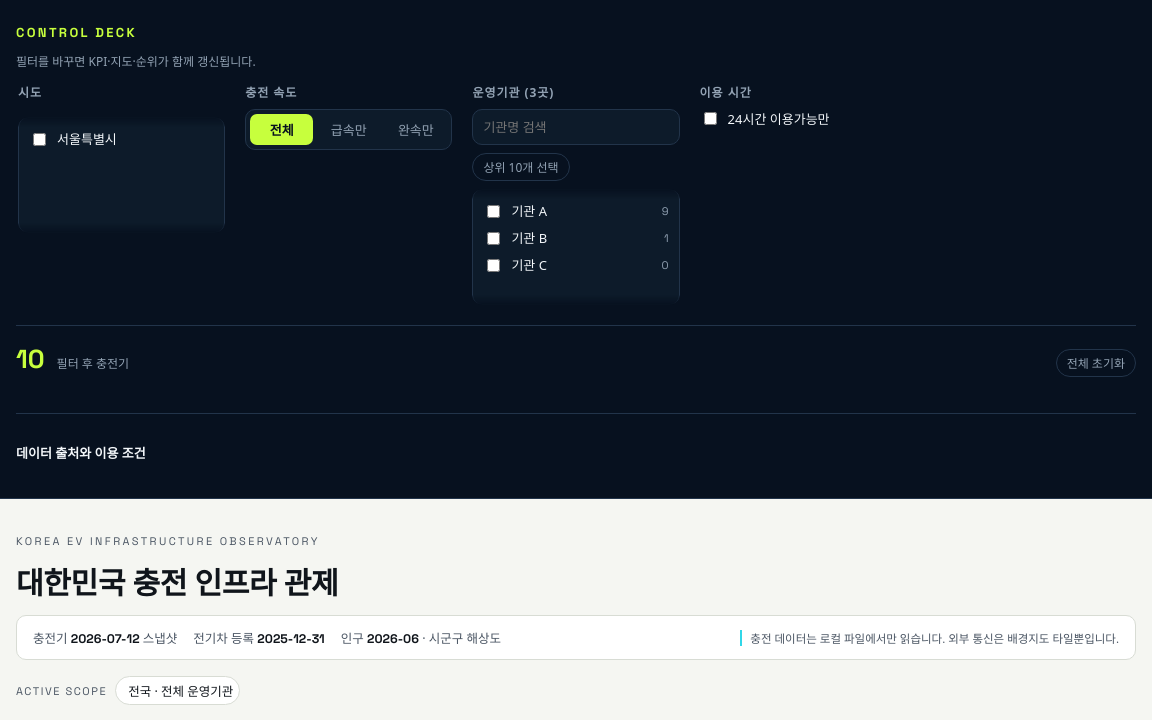
Test: App 빈 결과 상태 › 단일 차원 완화로 복구되지 않는 조합 원인을 구분한다
Click the checkbox labelled "기관 C 0" at (494, 266), box [487, 259, 500, 272]
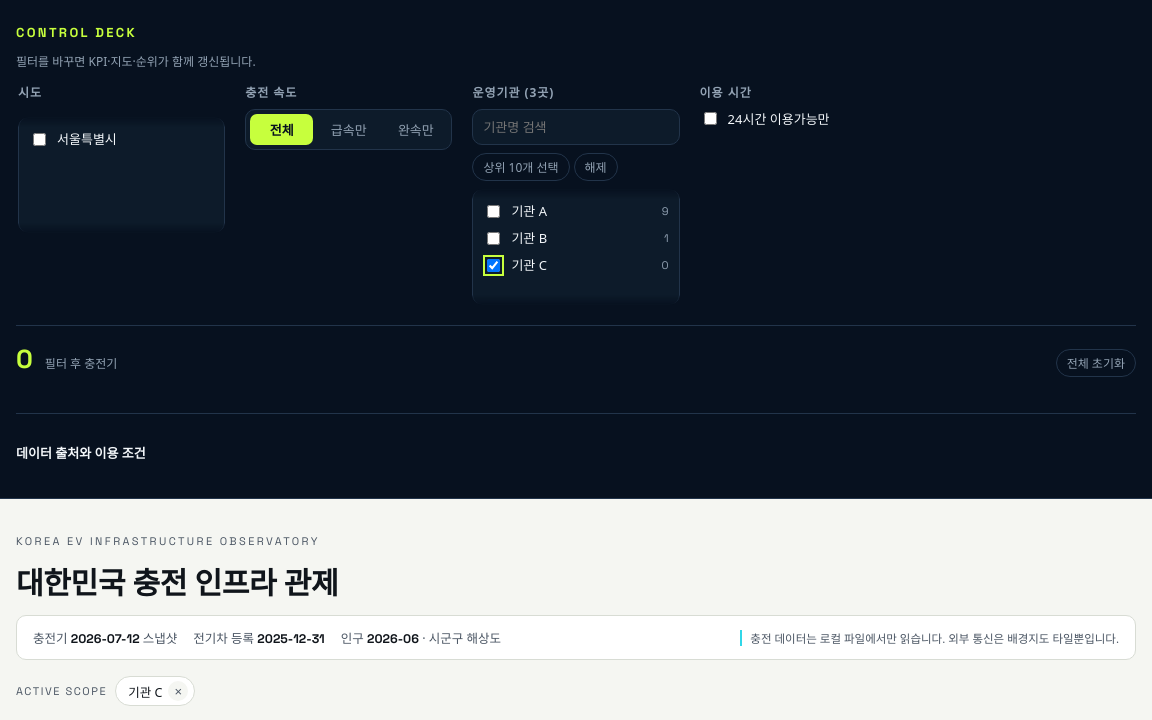
Click the radio button labelled "완속만" at (416, 130), box [398, 121, 434, 139]
(page scrolled)
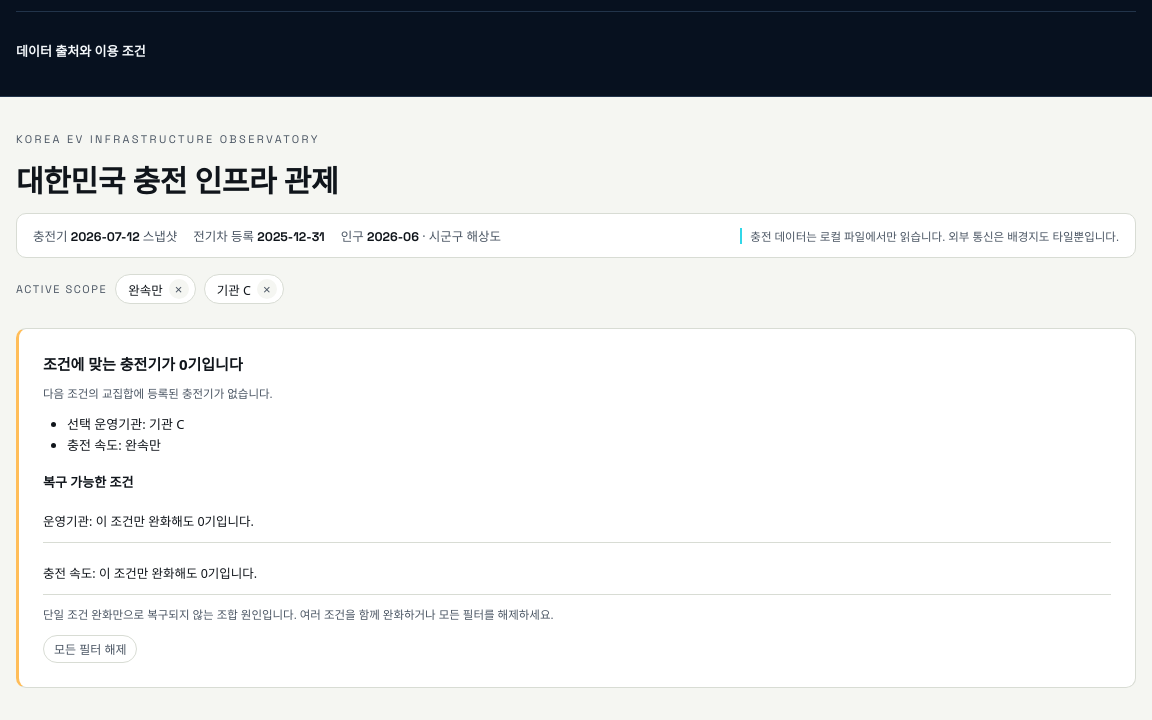
Expected: the message shows "운영기관: 이 조건만 완화해도 0기입니다.", [16, 328, 1136, 688]
Expected: the message shows "충전 속도: 이 조건만 완화해도 0기입니다.", [16, 328, 1136, 688]
Expected: the message shows "단일 조건 완화만으로 복구되지 않는 조합 원인", [43, 607, 554, 622]
